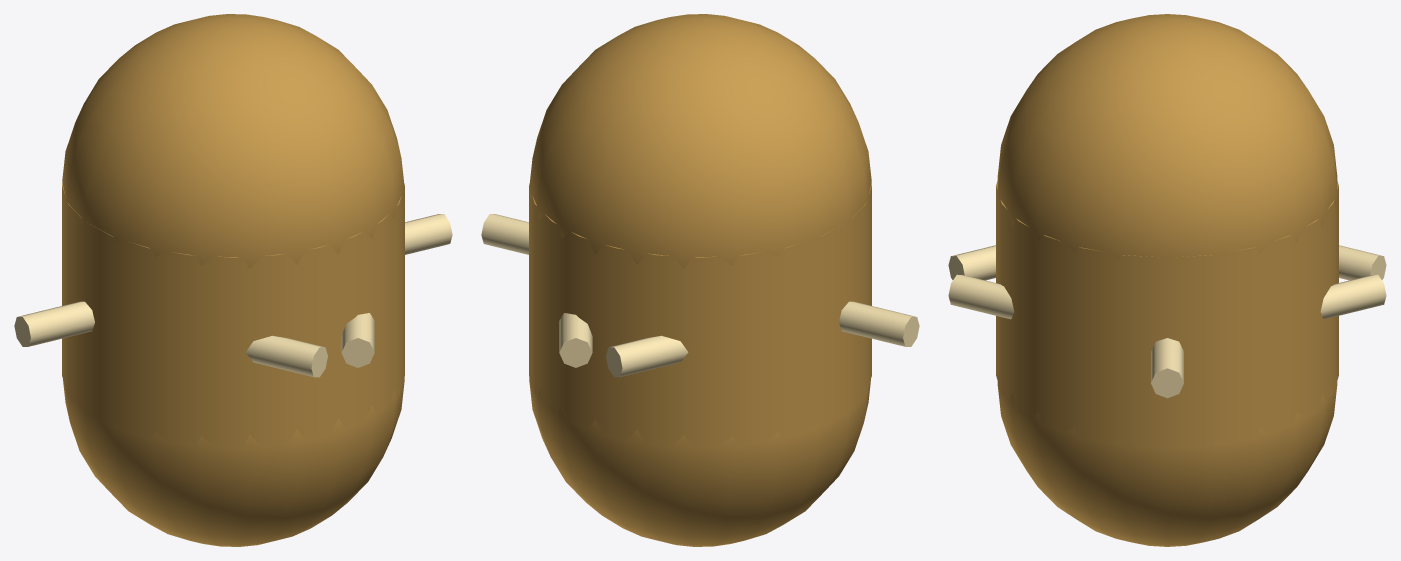
Rendered from flyer-shape-six-spoke-capsule-v1.glb.
3 views of the same model, side by side, from view 1: azimuth 30°, elevation 25°; view 2: azimuth 150°, elevation 25°; view 3: azimuth 270°, elevation 25° (orthographic).
Visible parts, largest first — view 1: Six-Spoke Capsule; view 2: Six-Spoke Capsule; view 3: Six-Spoke Capsule.
Part boxes in pixels (x1,y1,x2,y2): Six-Spoke Capsule: (14,14,452,546); Six-Spoke Capsule: (481,14,919,546); Six-Spoke Capsule: (948,14,1386,546).
Bounding box in the file's own units: 1.76 × 2 × 1.58.
